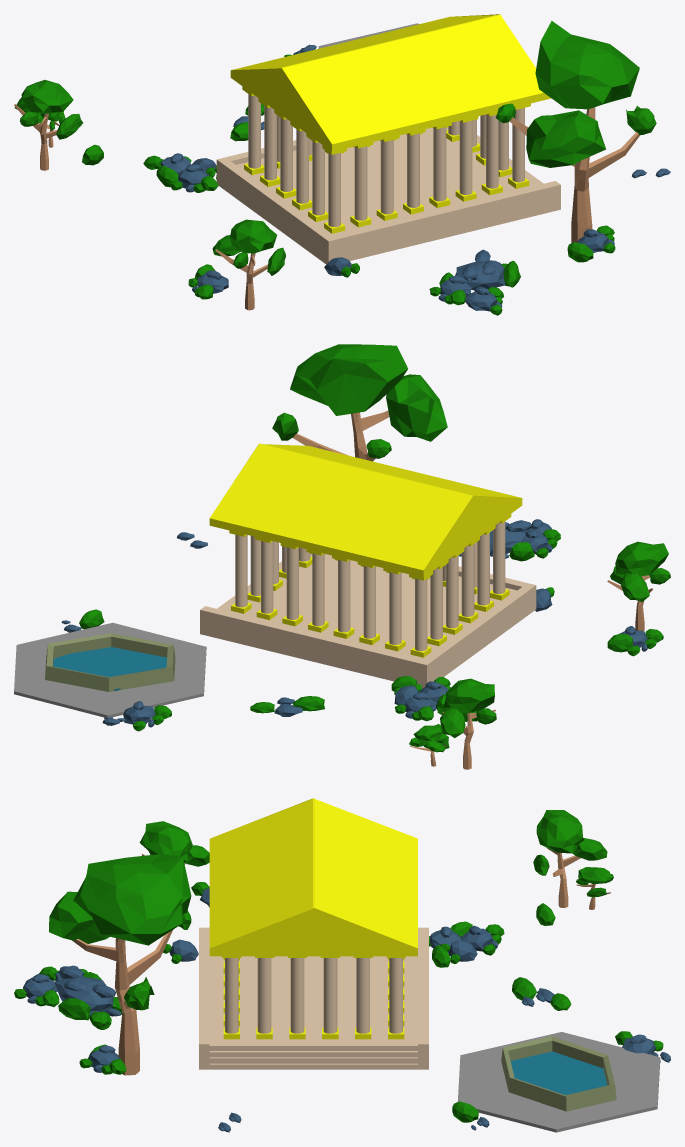
Rendered from Temple or.fbx.
3 views of the same model, one above another, from view 1: azimuth 30°, elevation 25°; view 2: azimuth 150°, elevation 25°; view 3: azimuth 270°, elevation 25° (orthographic). The views are drawn at different scales.
Visible parts, largest first — view 1: Cube.063; view 2: Cube.063; view 3: Cube.063.
Part boxes in pixels (x1=…): Cube.063: x1=14, y1=14, x2=670, y2=315; Cube.063: x1=14, y1=344, x2=670, y2=769; Cube.063: x1=14, y1=798, x2=670, y2=1132.
Size of the model in its own units: 12.67 by 14.25 by 5.13.
